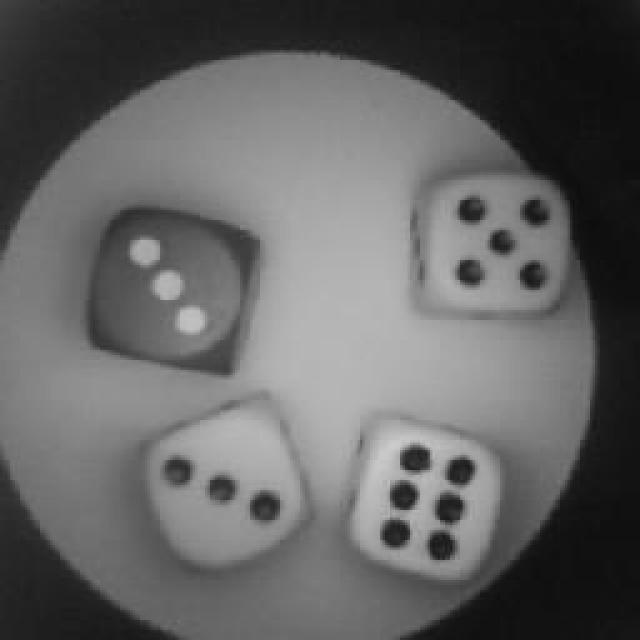dice_3: (142, 408, 308, 568), (95, 208, 245, 368)
dice_5: (408, 168, 572, 322)
dice_6: (340, 418, 500, 588)
